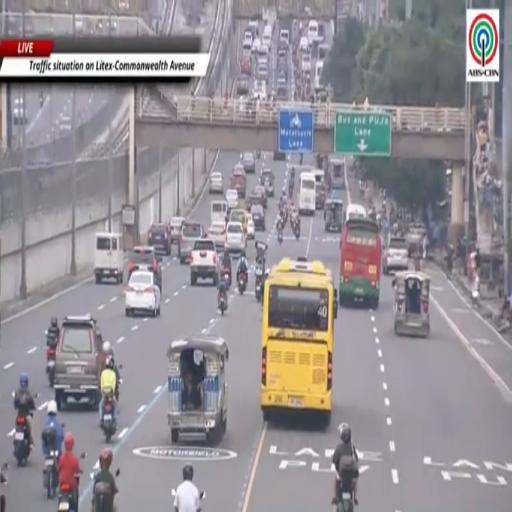bus: (261, 259, 338, 424), (339, 218, 381, 310), (298, 172, 315, 215)
car: (54, 315, 103, 409), (125, 270, 161, 316), (128, 246, 162, 293), (179, 220, 205, 264), (382, 236, 408, 275), (148, 223, 170, 255), (226, 222, 246, 252), (208, 221, 225, 251), (170, 216, 185, 245), (250, 204, 266, 231), (260, 168, 274, 197), (12, 98, 26, 124), (254, 185, 267, 210), (246, 192, 262, 212), (209, 172, 223, 194), (236, 75, 250, 95), (225, 189, 238, 210), (242, 153, 255, 173), (59, 117, 72, 135), (241, 57, 251, 76), (247, 214, 254, 239), (248, 19, 258, 36), (300, 37, 308, 52), (252, 38, 260, 52), (259, 45, 269, 55)
jeepney: (167, 334, 229, 444), (393, 271, 430, 337), (324, 199, 342, 232)
motorcycle: (14, 413, 30, 466), (101, 394, 117, 444), (58, 475, 79, 511), (44, 450, 58, 499), (44, 451, 58, 499), (93, 483, 112, 511), (46, 344, 56, 387), (0, 463, 8, 511), (337, 492, 354, 511), (255, 269, 263, 302), (238, 272, 247, 295), (219, 293, 227, 315), (222, 268, 231, 287), (294, 224, 300, 241), (278, 231, 282, 245), (200, 491, 205, 501), (256, 150, 260, 158)
truck: (190, 239, 219, 285), (230, 166, 246, 198)
